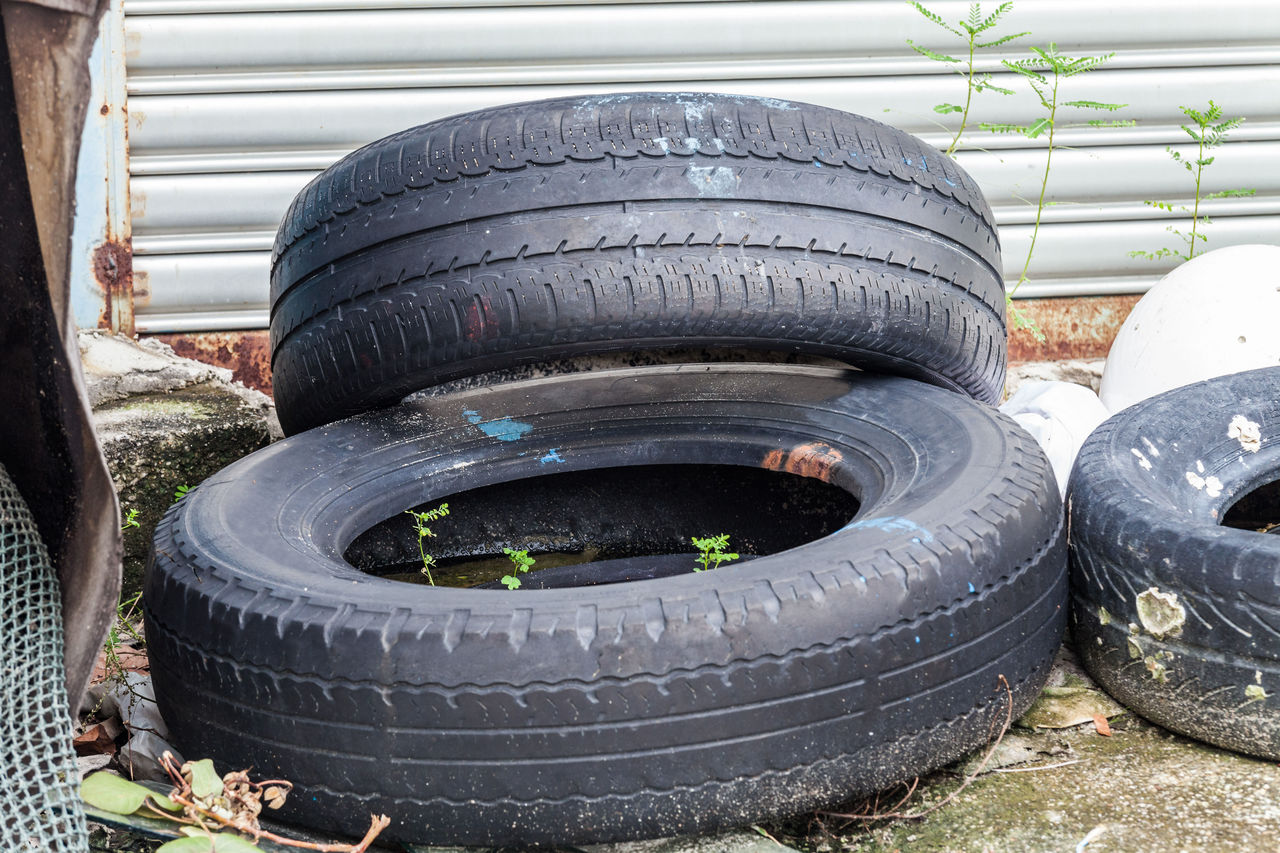tire: (138, 370, 1076, 841), (255, 82, 1017, 440), (1070, 360, 1280, 787)
